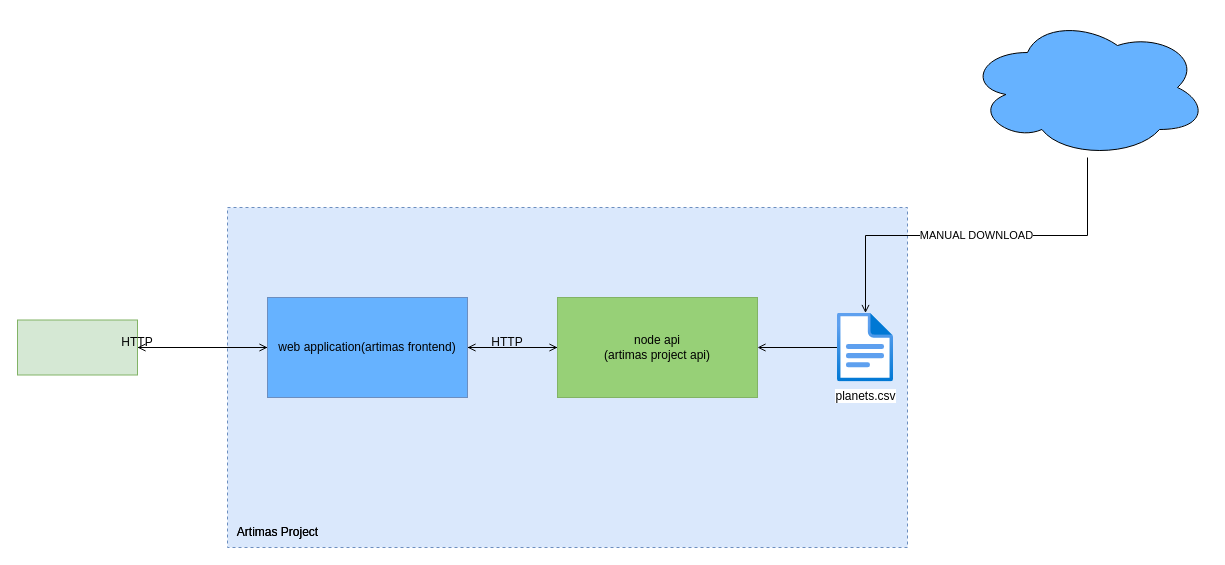
This 1225x565 diagram has some shape labels left out. Each missing label, with the box of its shape:
NASA WEBSITE: (966, 16, 1208, 158)
web browser: (16, 319, 138, 375)
